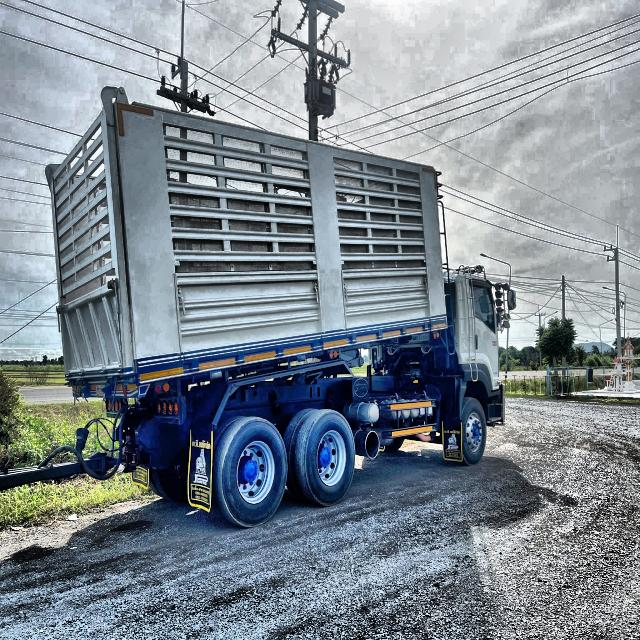trailer: (0, 84, 509, 532)
